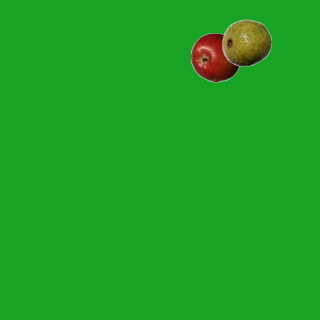Apple Braeburn: (190, 32, 240, 82)
Guava: (221, 17, 271, 67)
